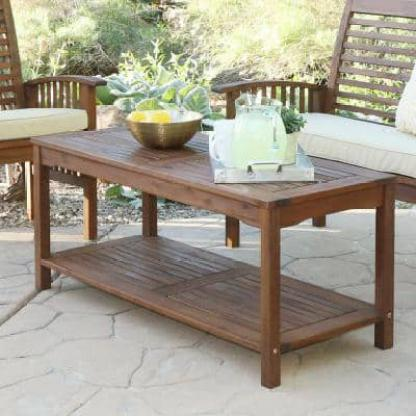table: (25, 112, 400, 393)
